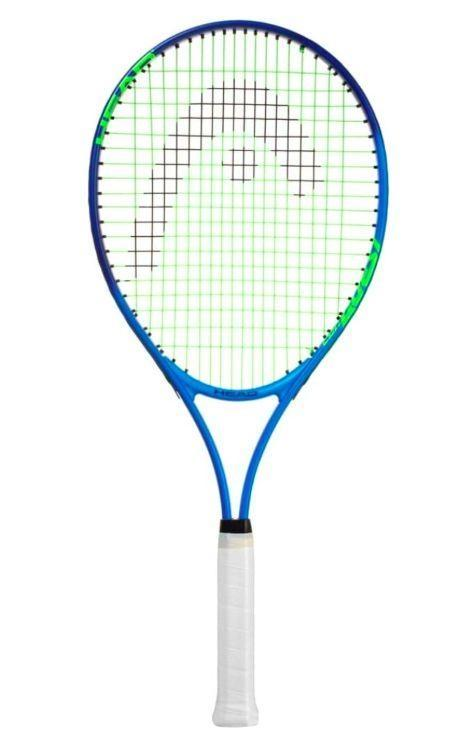Tennis-Racket: (86, 22, 388, 714)
